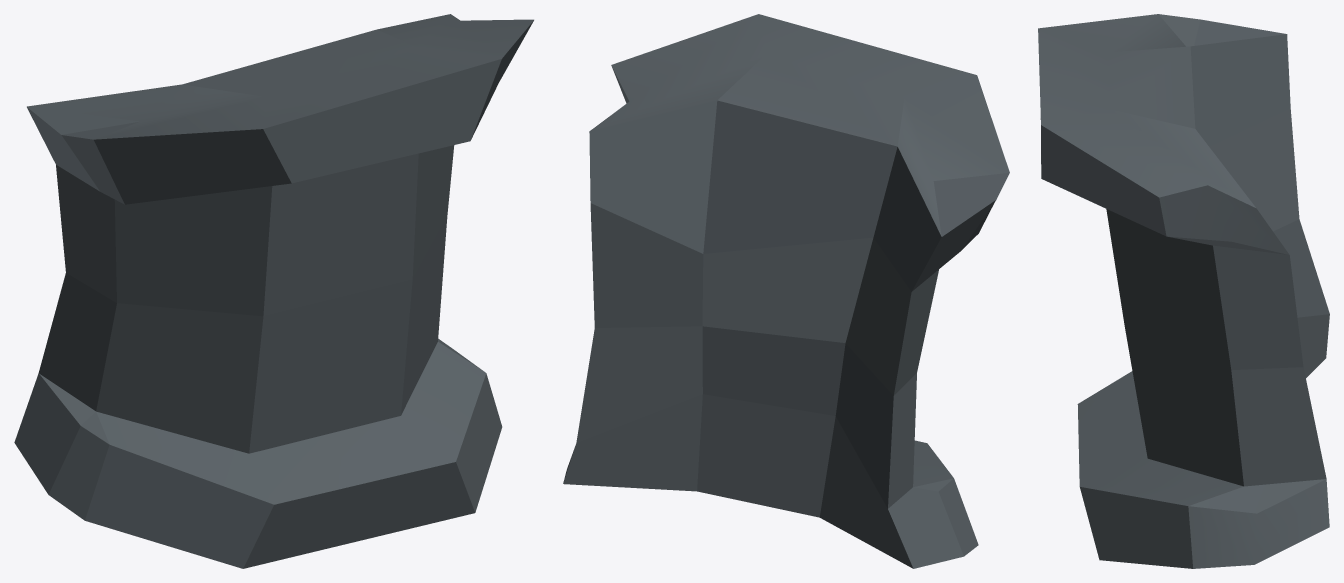
File: Chr_KneeAttachRight_02_Static.fbx
3 views of the same model, side by side, from view 1: azimuth 30°, elevation 25°; view 2: azimuth 150°, elevation 25°; view 3: azimuth 270°, elevation 25° (orthographic). The views are drawn at different scales.
Parts seen in each view (by area): view 1: Chr_KneeAttachRight_02_Static; view 2: Chr_KneeAttachRight_02_Static; view 3: Chr_KneeAttachRight_02_Static.
Boxes of the visible parts, left/top/right/bottom form: Chr_KneeAttachRight_02_Static: left=14, top=14, right=533, bottom=568; Chr_KneeAttachRight_02_Static: left=563, top=14, right=1009, bottom=568; Chr_KneeAttachRight_02_Static: left=1038, top=14, right=1329, bottom=568.
Size of the model in its own units: 0.1752 by 0.1782 by 0.109.
